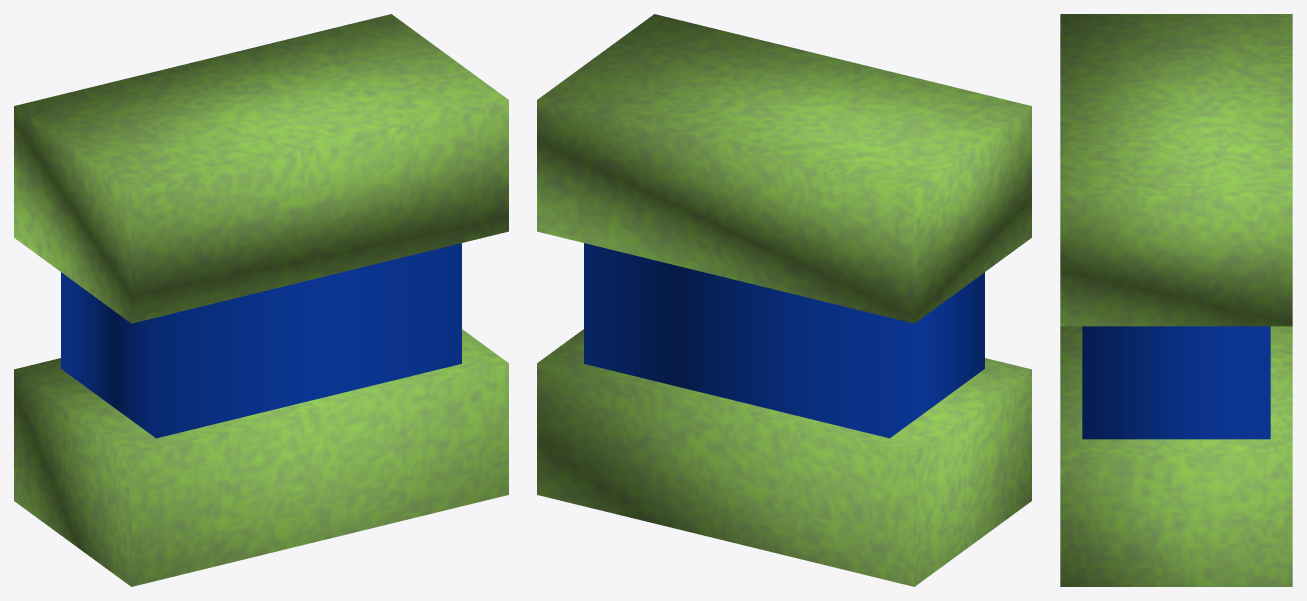
Rendered from Block.fbx.
3 views of the same model, side by side, from view 1: azimuth 30°, elevation 25°; view 2: azimuth 150°, elevation 25°; view 3: azimuth 270°, elevation 25° (orthographic).
Parts seen in each view (by area): view 1: Block; view 2: Block; view 3: Block.
Part boxes in pixels (<box>): Block: <box>14,14,508,586</box>; Block: <box>537,14,1031,586</box>; Block: <box>1060,14,1292,586</box>.
Bounding box in the file's own units: 200 × 200 × 108.
